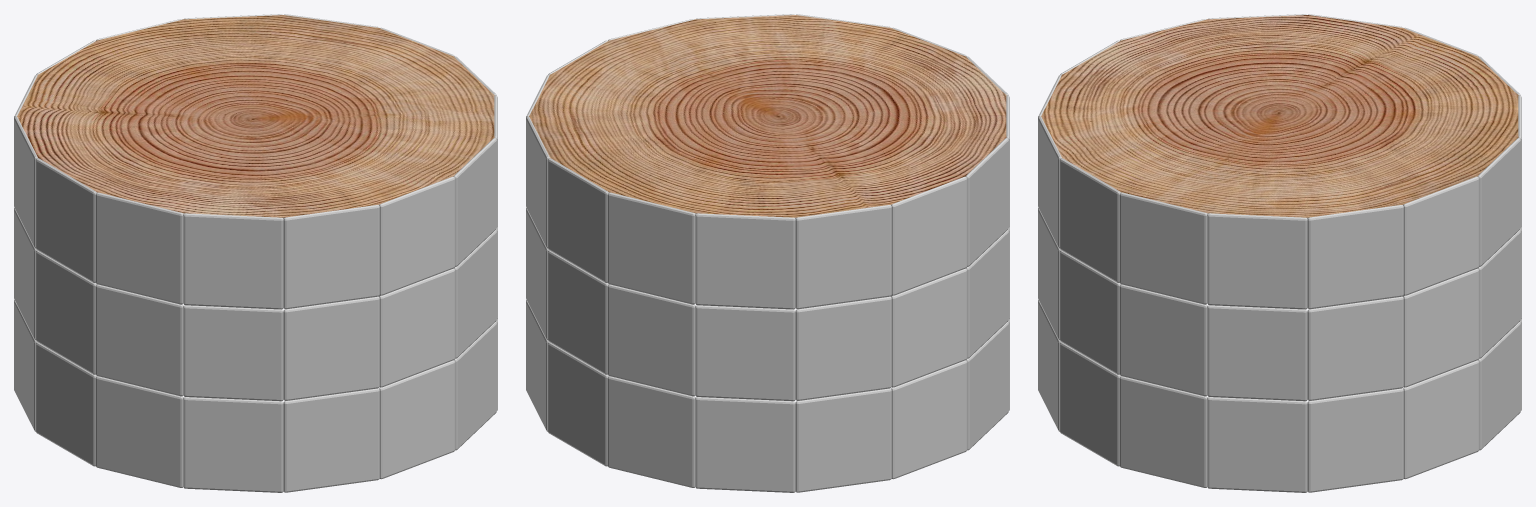
Rendered from Tegelijk15SidedCycles280.glb.
3 renders of one model, left to right at view 1: azimuth 30°, elevation 25°; view 2: azimuth 150°, elevation 25°; view 3: azimuth 270°, elevation 25°, orthographic.
Parts seen in each view (by area): view 1: Cube, Circle.001; view 2: Cube, Circle.001; view 3: Cube, Circle.001.
Part boxes in pixels (<box>): Cube: <box>14,14,497,492</box>; Circle.001: <box>17,15,494,217</box>; Cube: <box>526,14,1009,492</box>; Circle.001: <box>529,15,1006,217</box>; Cube: <box>1038,14,1521,492</box>; Circle.001: <box>1041,15,1518,217</box>.
Bounding box in the file's own units: 9.61 × 6 × 9.56.
2 materials, 1 textured.
